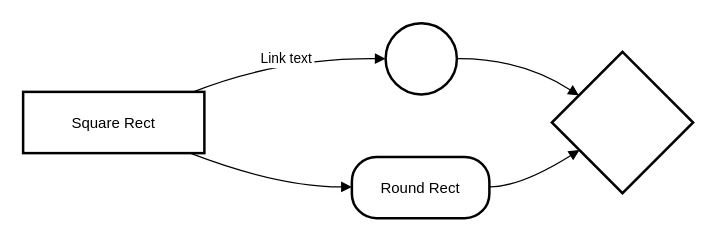
Image size: 715x240. Some labels were removed from this diagram. Here are the shapes that lost their labels. From the top down, the box of each, then its label:
(384, 21, 458, 95): Circle
(550, 50, 694, 194): Rhombus
